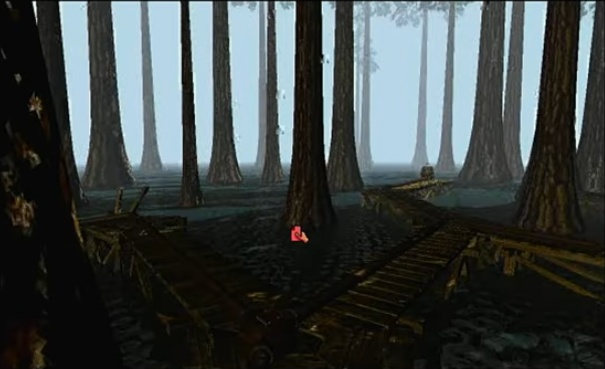Keep: (289, 222, 312, 245)
